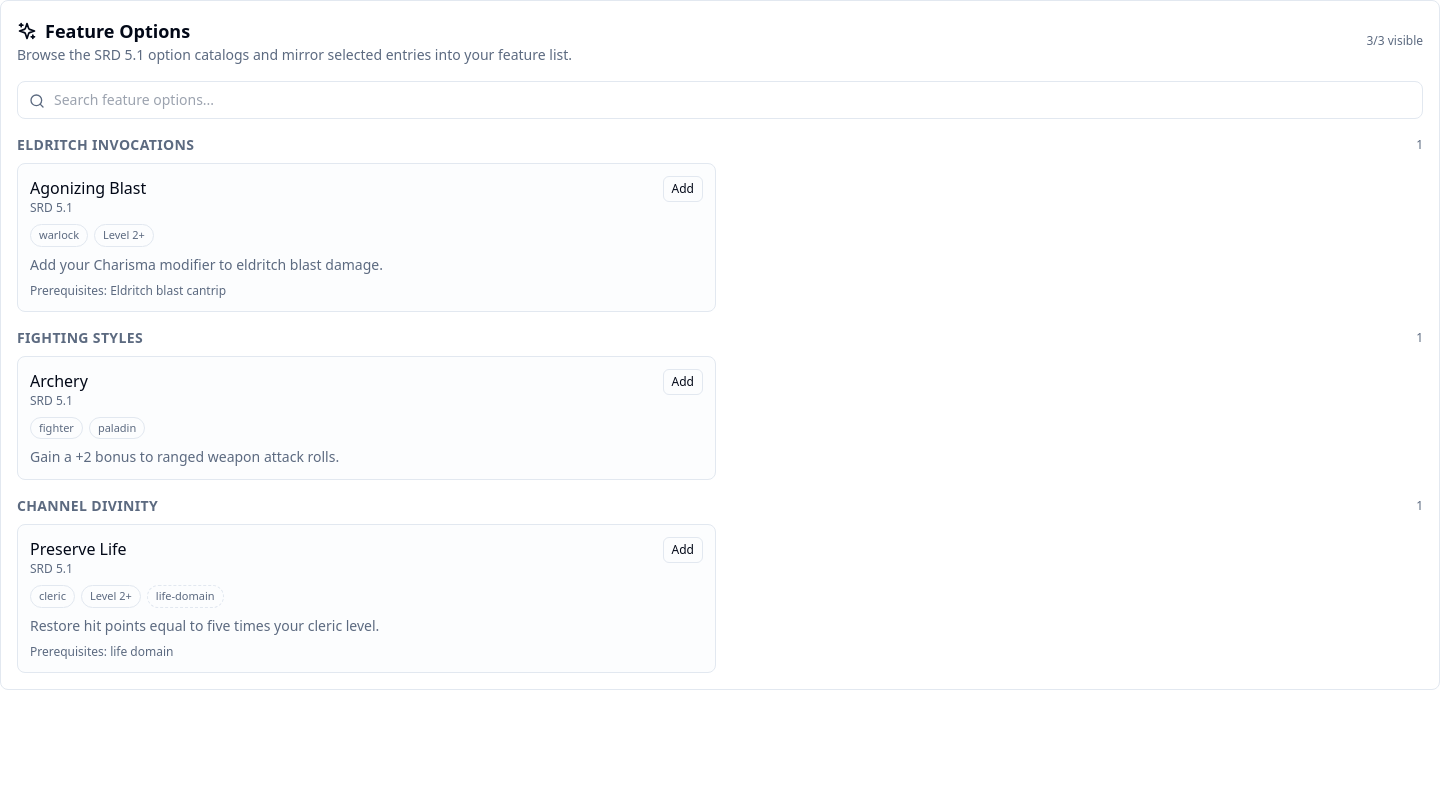
Test: FeatureOptionBrowser › filters visible options from the search field
Type "cleric" into the field labelled "Search feature options" at (720, 100), box x1=17 y1=81 x2=1423 y2=119
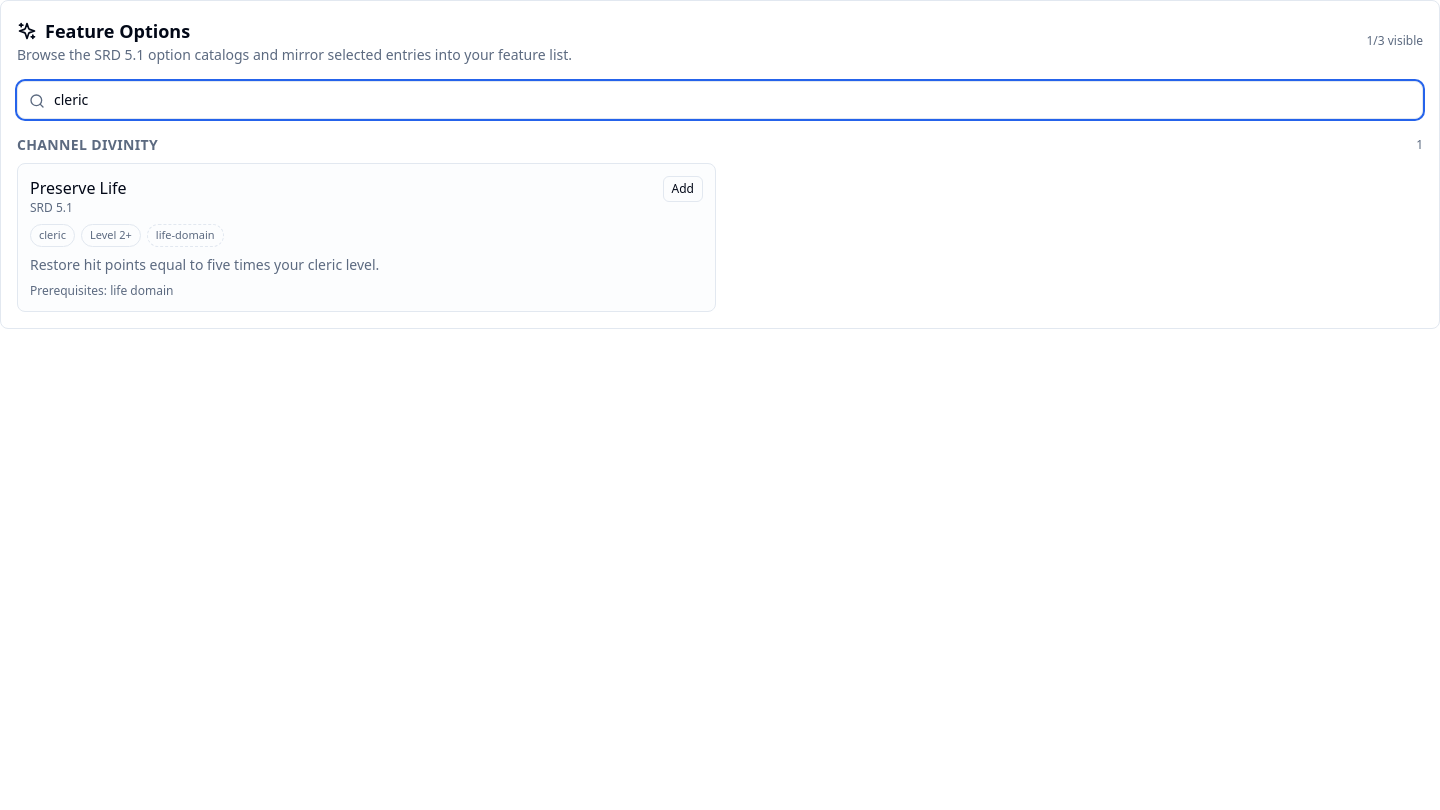
Expected: the text "Preserve Life" is shown, x1=30 y1=176 x2=127 y2=200
Expected: the text "Agonizing Blast" is gone
Expected: the text "Archery" is gone
